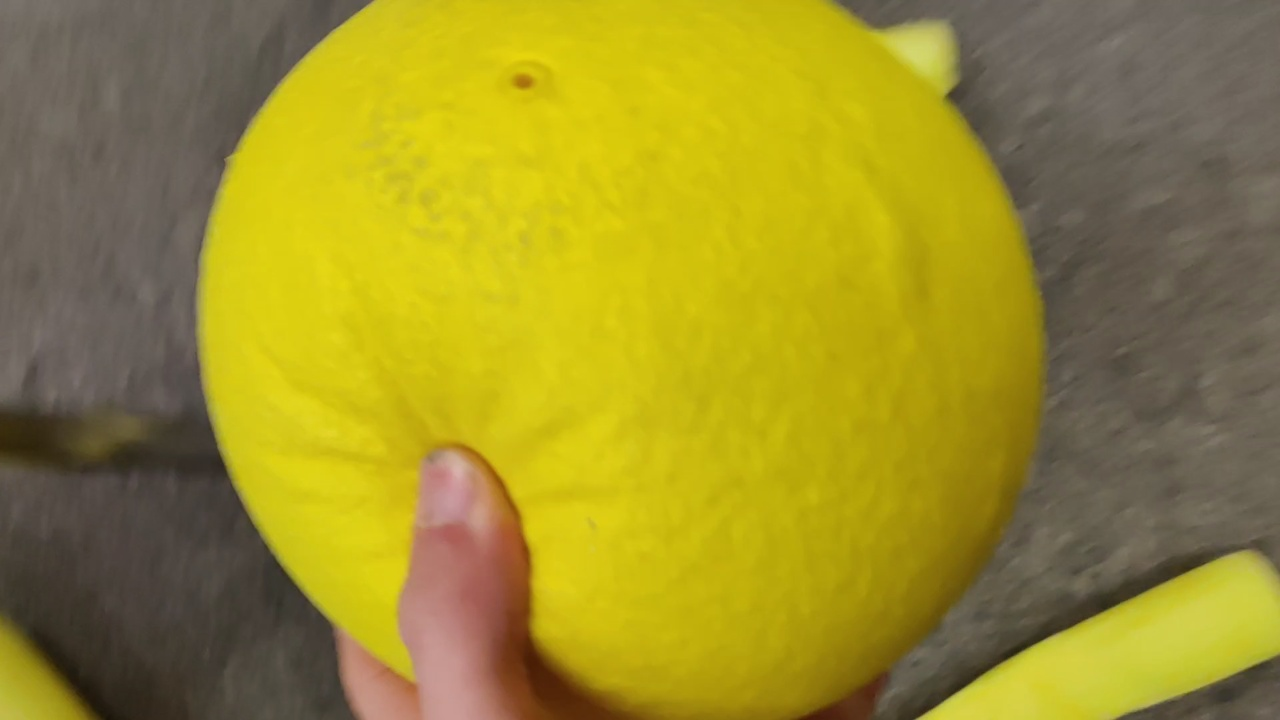Ball: (190, 1, 1050, 702)
